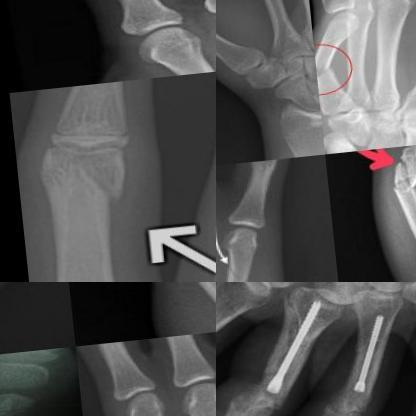fracture: (250, 295, 333, 402), (27, 138, 127, 226), (333, 310, 397, 406), (384, 150, 415, 219), (314, 58, 340, 93), (220, 257, 252, 281)
